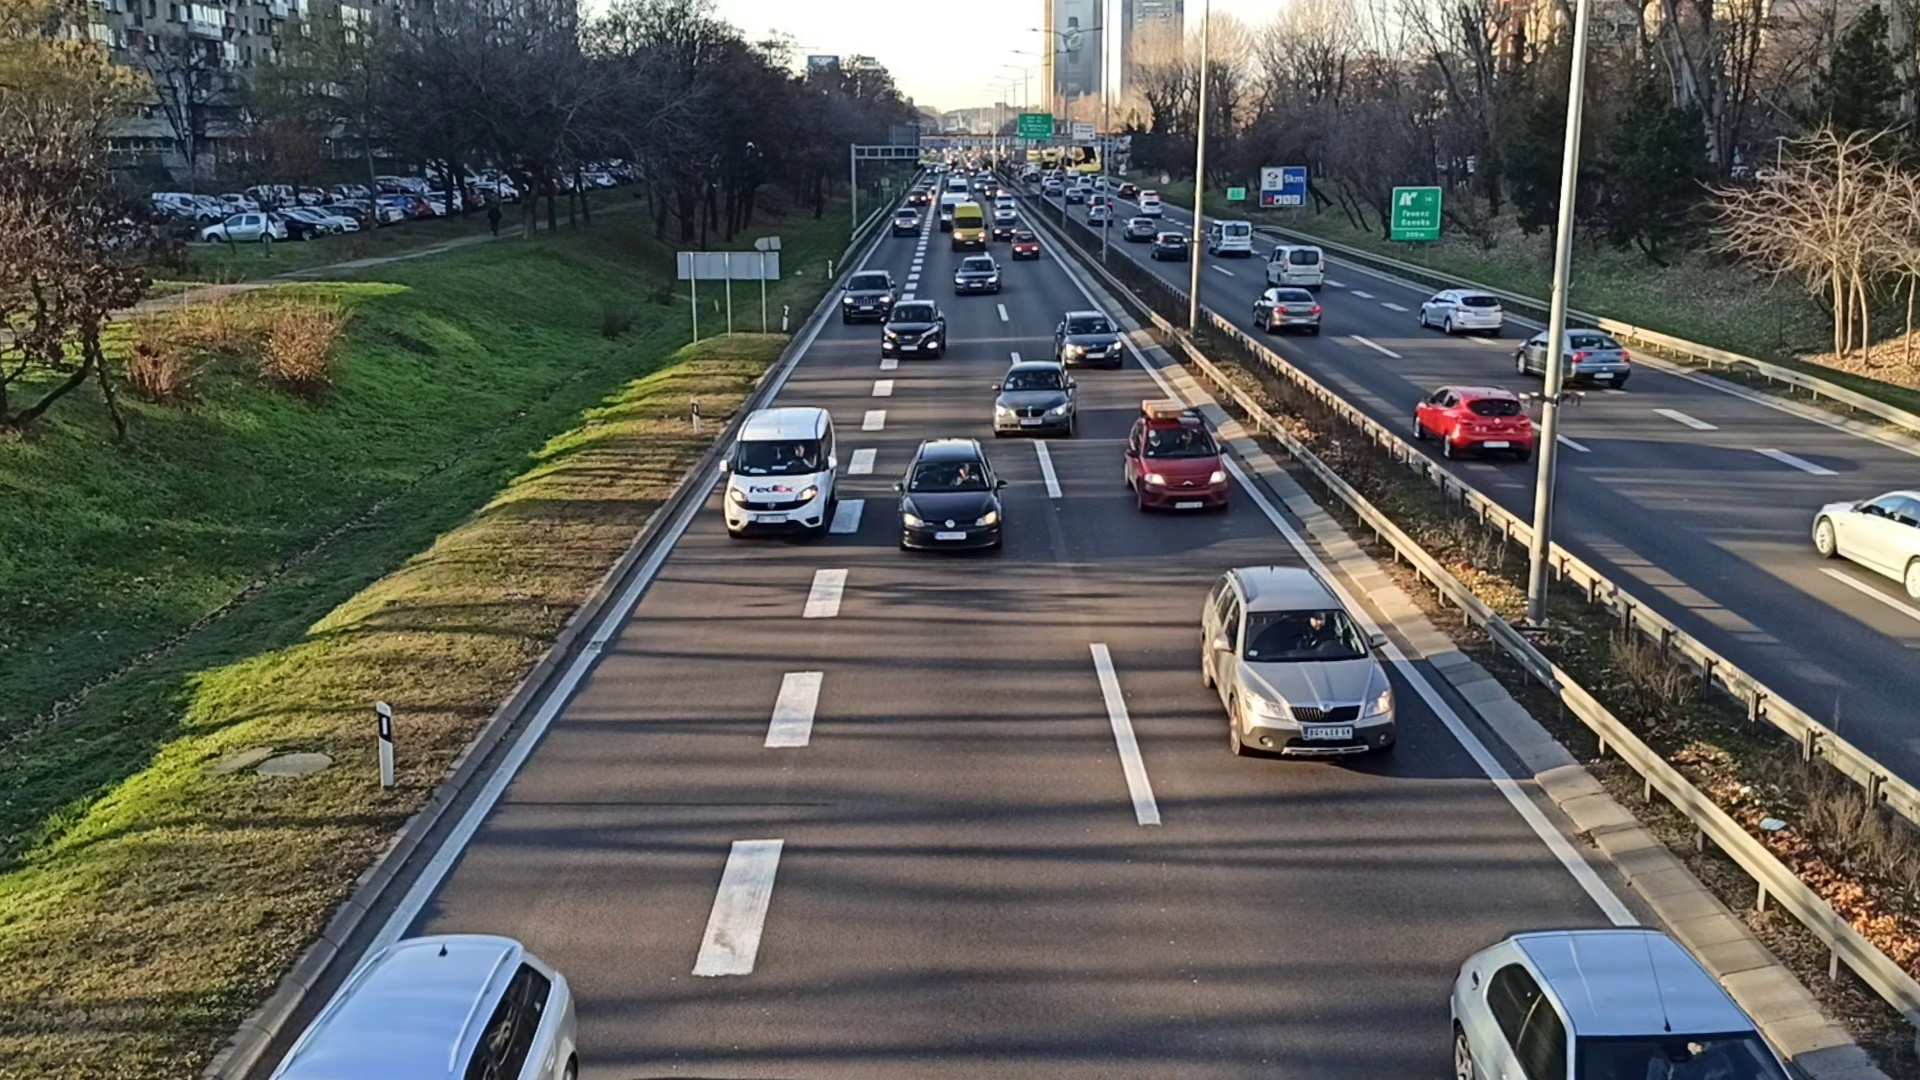car: (1195, 563, 1398, 769), (1122, 404, 1233, 521), (894, 433, 1001, 549), (1415, 380, 1531, 467), (994, 360, 1077, 440), (1516, 326, 1627, 384), (1056, 306, 1120, 371), (884, 297, 945, 359), (1418, 287, 1501, 334), (1251, 284, 1320, 331), (843, 269, 895, 320), (953, 256, 1000, 293), (1010, 229, 1038, 262), (891, 206, 918, 231)
van: (723, 407, 837, 535), (1267, 240, 1323, 289)
